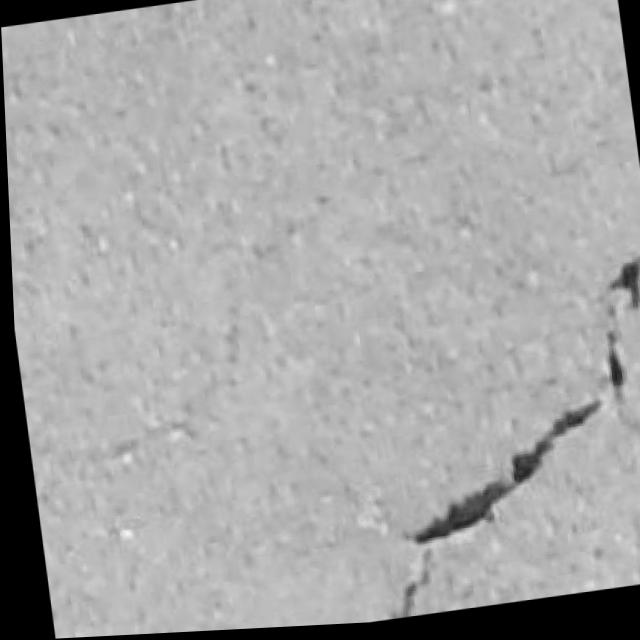Crack: (336, 245, 640, 625)
